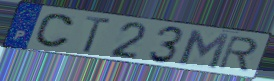2: (109, 21, 148, 60)
3: (148, 25, 185, 65)
C: (32, 12, 76, 50)
M: (177, 28, 232, 71)
R: (217, 34, 260, 73)
T: (81, 14, 114, 55)
